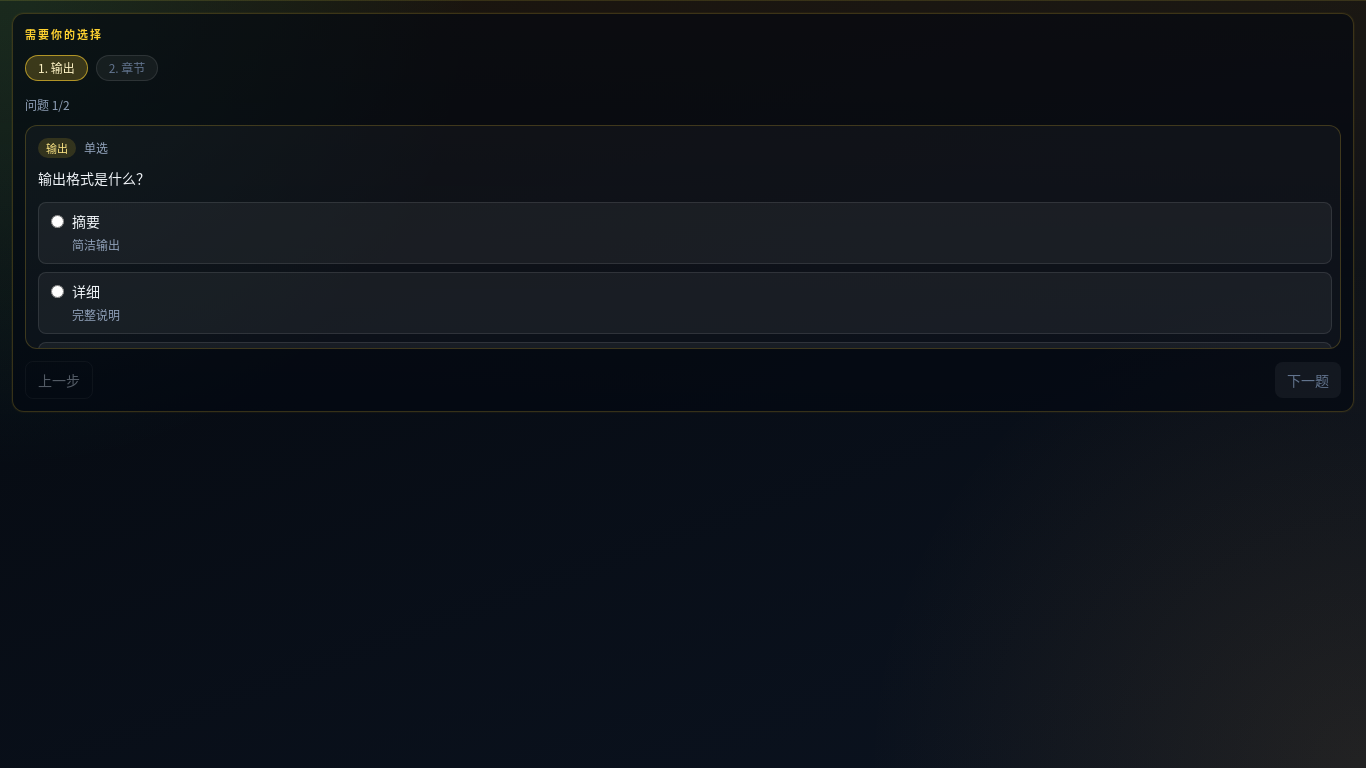
Test: PendingQuestionWizard › renders only the current question and blocks next until answered
The width and height of the screenshot is (1366, 768).
Check: the text "问题 1/2" is shown, box x1=25 y1=96 x2=70 y2=112
Check: the text "输出格式是什么？" is shown, box x1=38 y1=168 x2=150 y2=188
Step 1. Click the radio button labelled "摘要" → (58, 222), box x1=51 y1=215 x2=64 y2=228
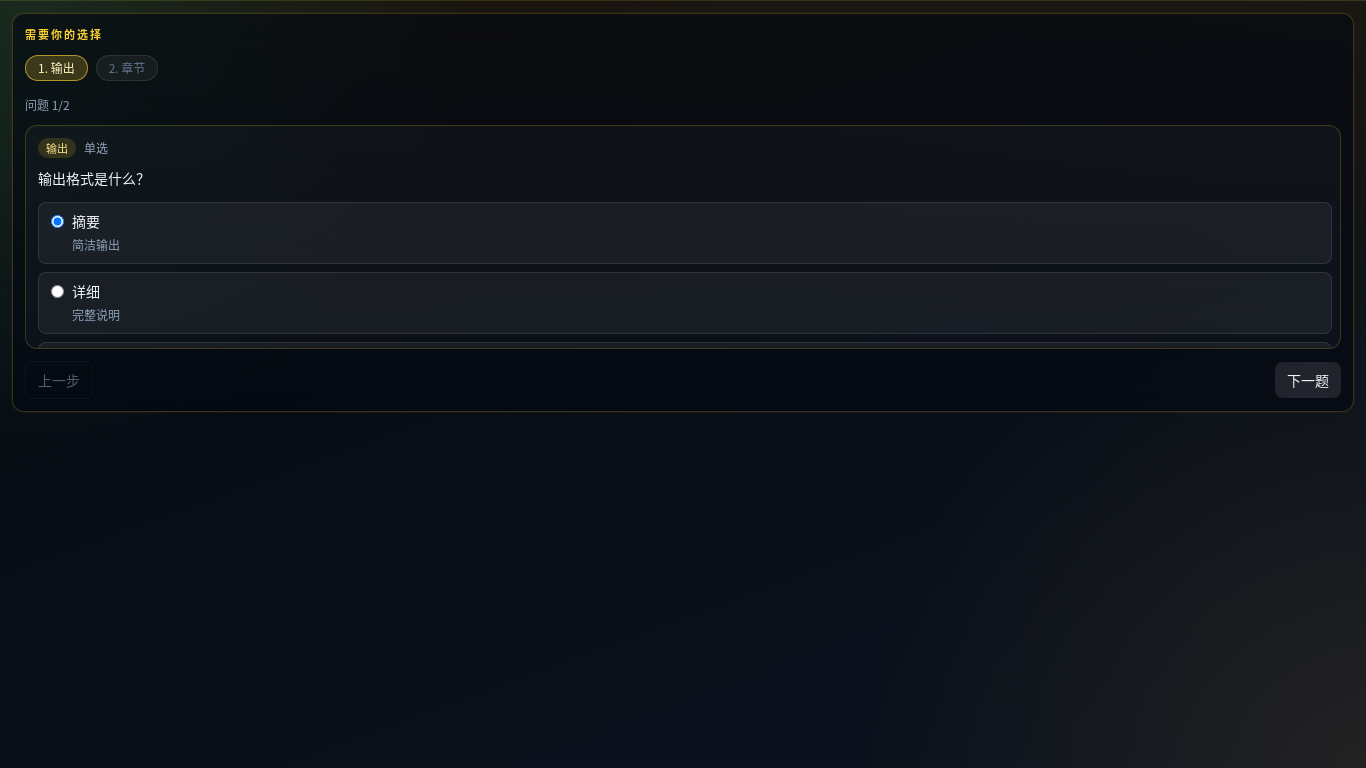
Check: the button "下一题" is enabled
Step 2. Click the button "下一题" → (1308, 380), box x1=1275 y1=362 x2=1341 y2=398
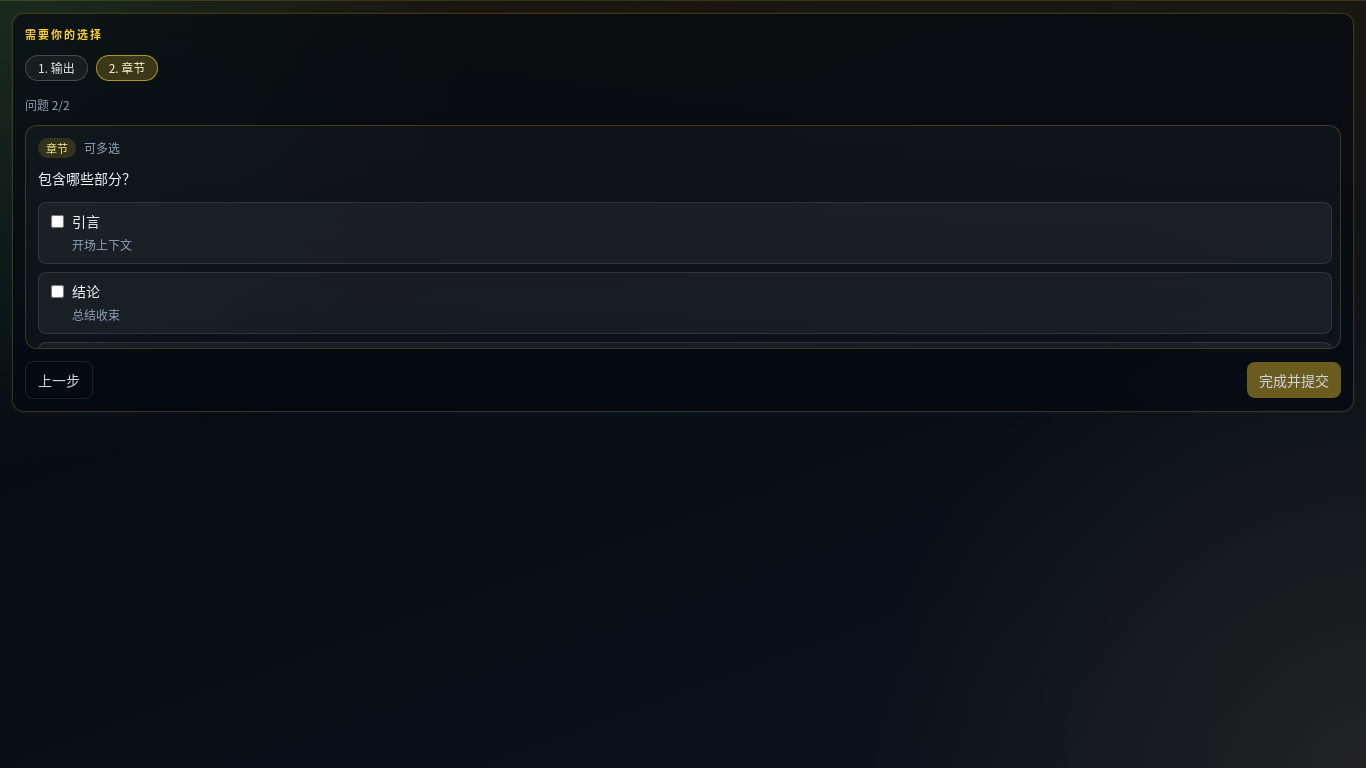
Check: the text "问题 2/2" is shown, box x1=25 y1=96 x2=70 y2=112
Check: the text "包含哪些部分？" is shown, box x1=38 y1=168 x2=136 y2=188
Check: the text "输出格式是什么？" is gone
